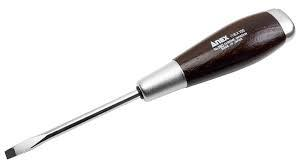screwdriver: (4, 7, 296, 159)
